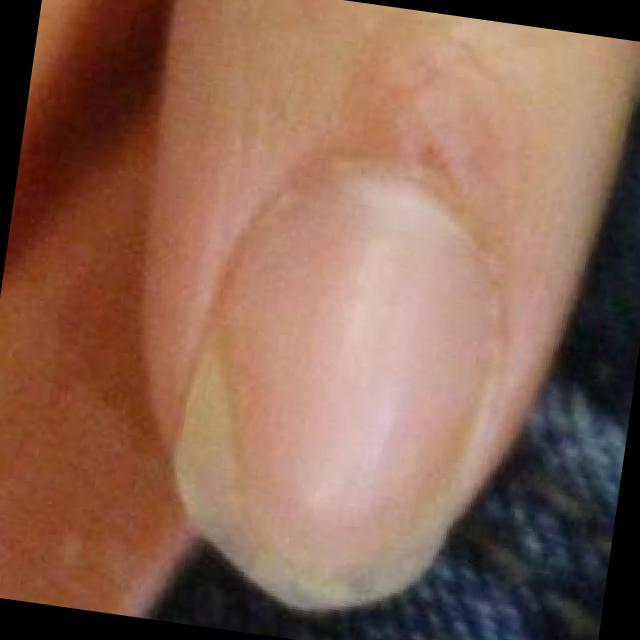Nail: (170, 176, 504, 624)
